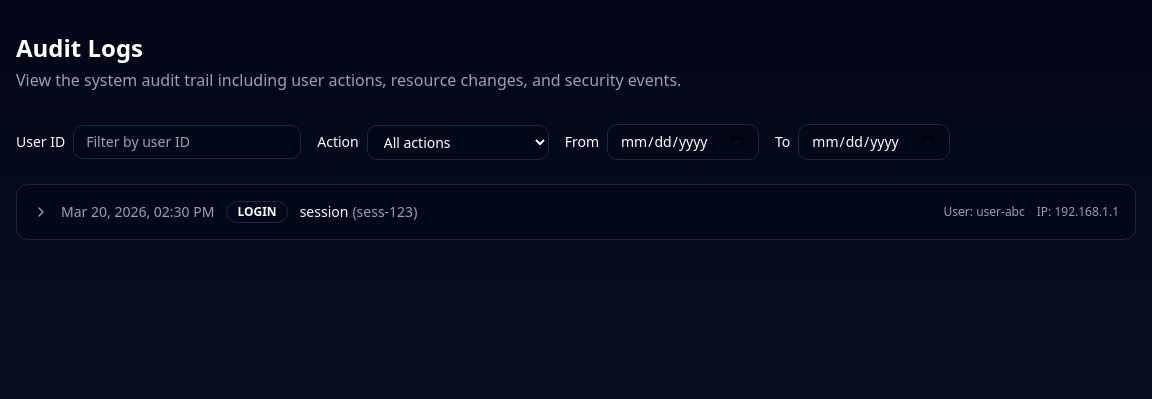
Scenario: AdminAuditLogsPage › expandable detail › expands to show userAgent and metadata on click
Click to expand
Click the button with aria-label "LOGIN on session" at (138, 212), box [17,185,1135,239]
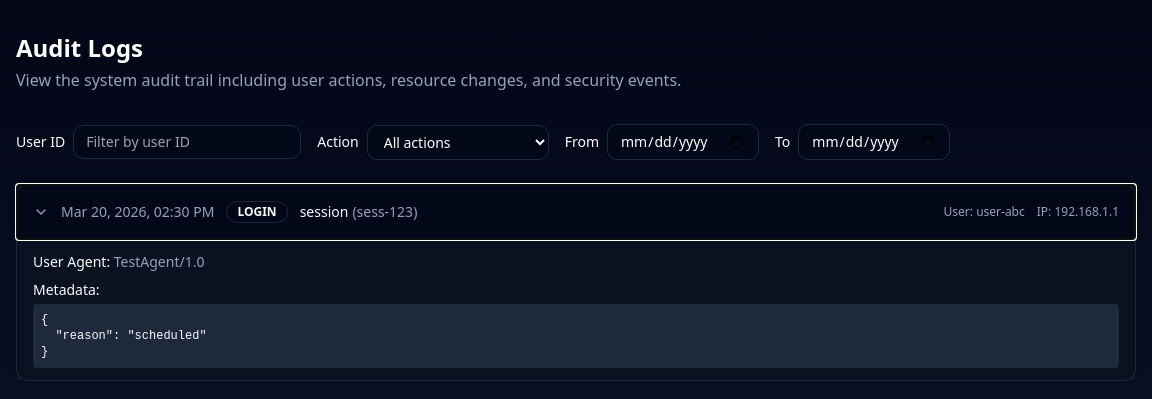
Check: the element with test id "audit-log-detail" is shown, box [17,239,1135,380]
Check: the text "TestAgent/1.0" is shown, box [114,252,204,271]
Check: the text "{ \"reason\": \"scheduled\" }" is shown, box [33,304,1119,368]
